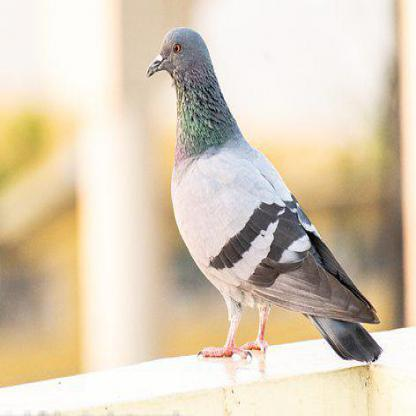Flying Rat: (142, 28, 397, 366)
